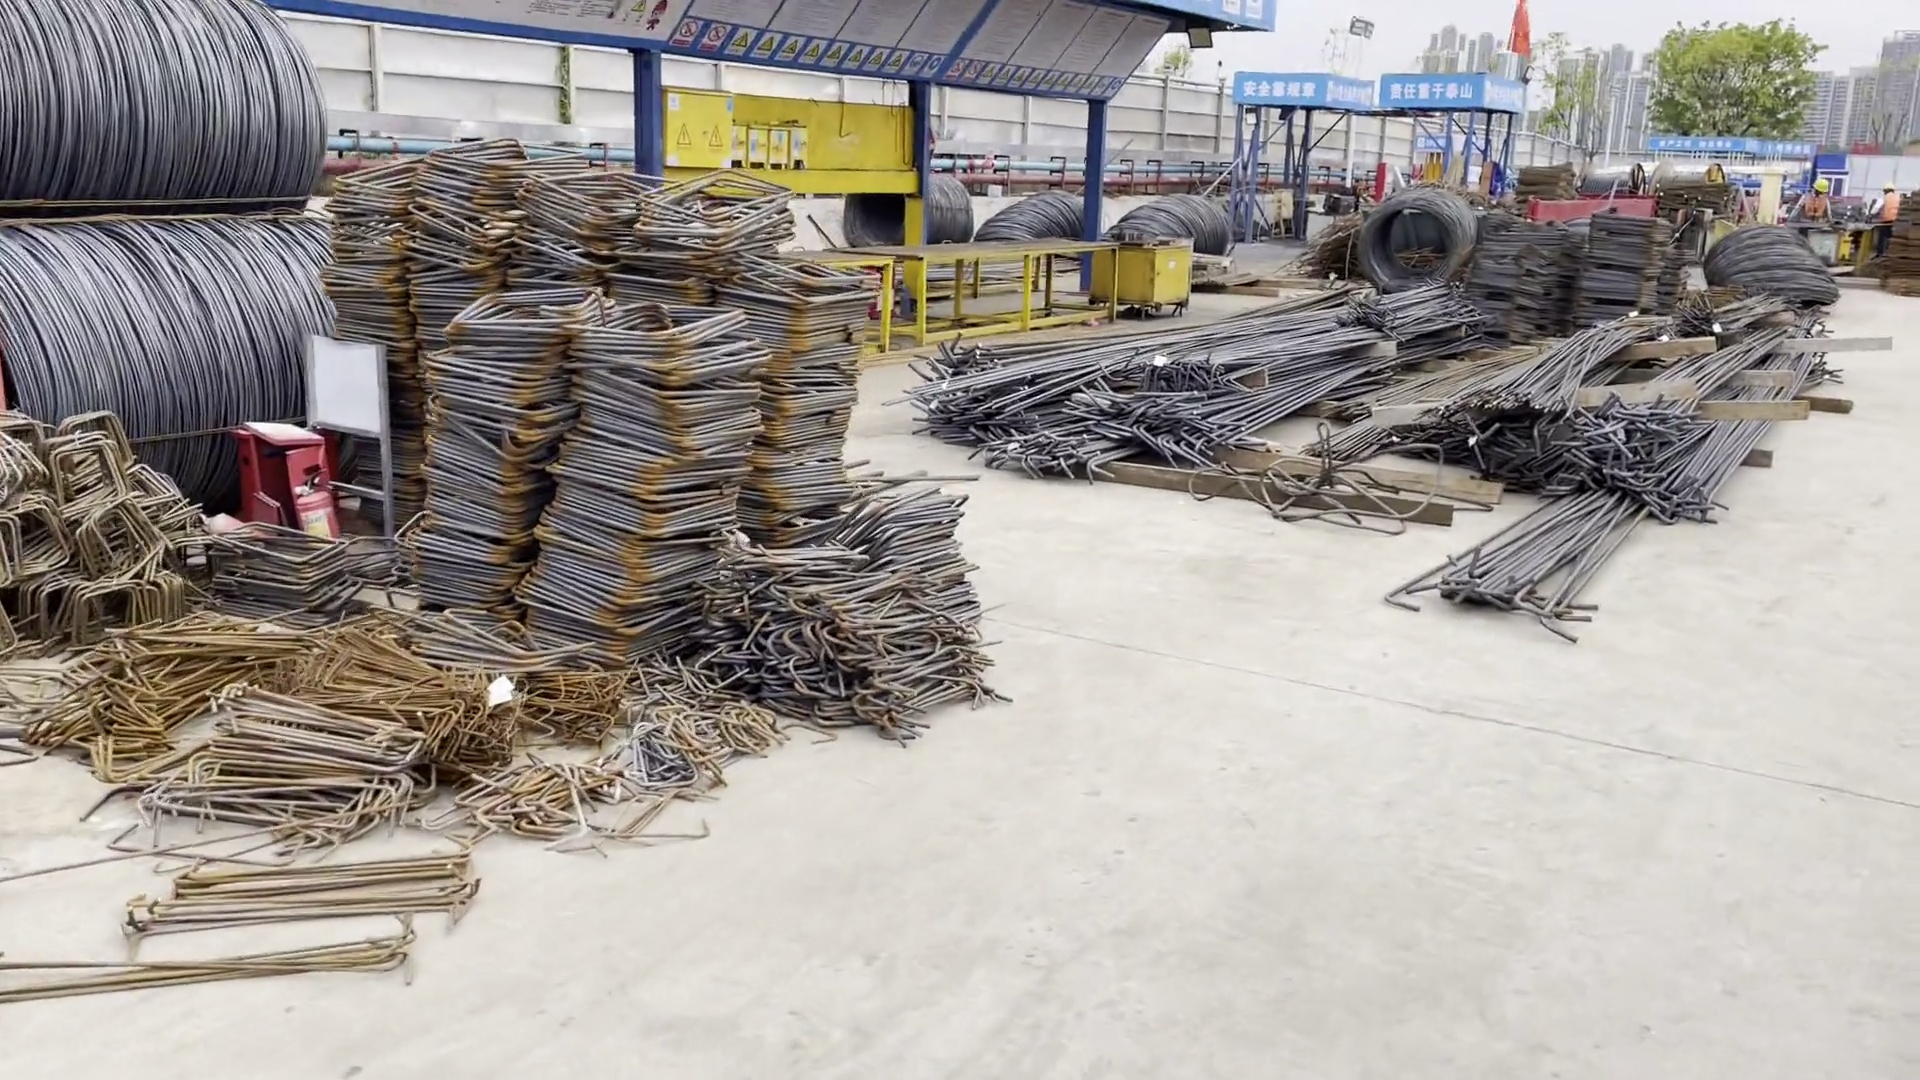ebox: (652, 83, 732, 175)
person: (1793, 174, 1836, 225), (1870, 181, 1902, 225)
rebar: (1381, 306, 1838, 616), (908, 282, 1495, 489)
slogan: (1387, 76, 1472, 108), (1246, 74, 1324, 102)
vest: (1802, 189, 1828, 222), (1879, 191, 1897, 221)
